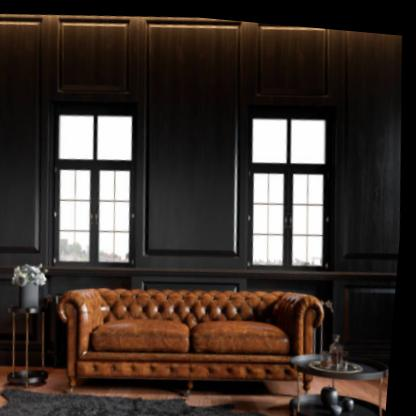Window: (234, 95, 347, 272), (41, 93, 151, 269)
